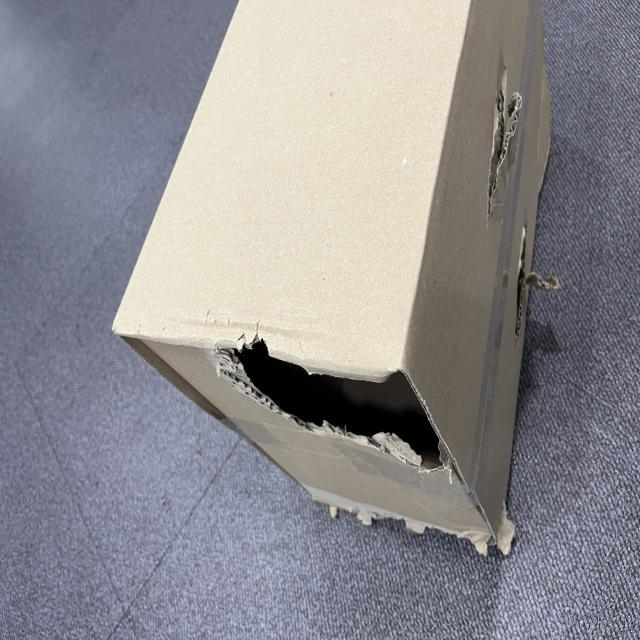hole: (218, 338, 454, 474), (492, 80, 518, 213)
